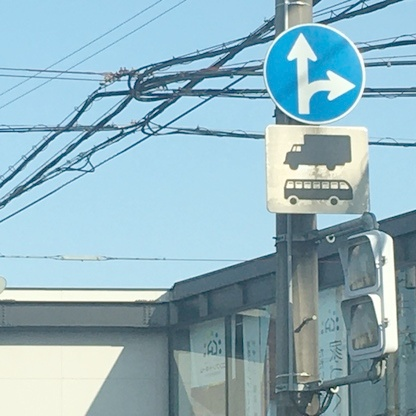Direction_sign: (259, 24, 365, 124)
